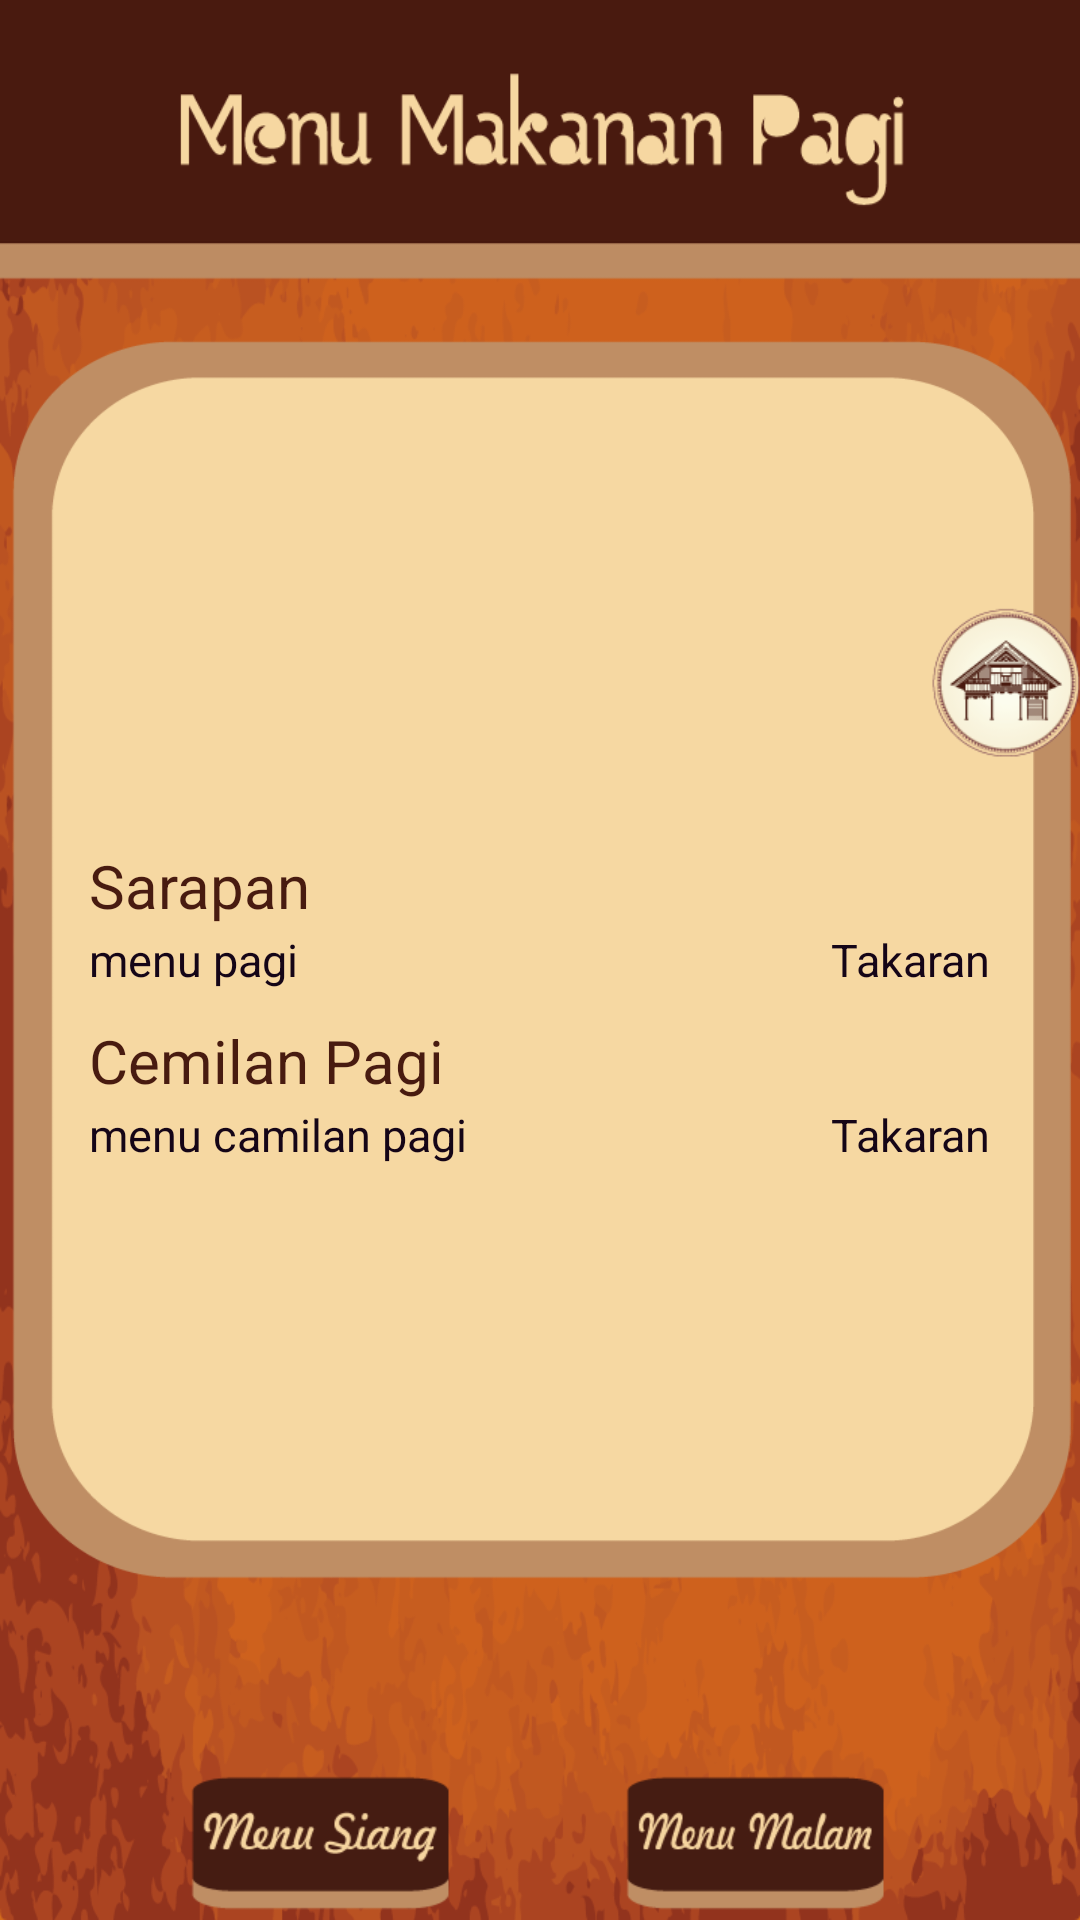

Point at icon controls on the screen. Image size 1080x1920, points as (x=x, y=y).
homebutton: (x=1006, y=682)
